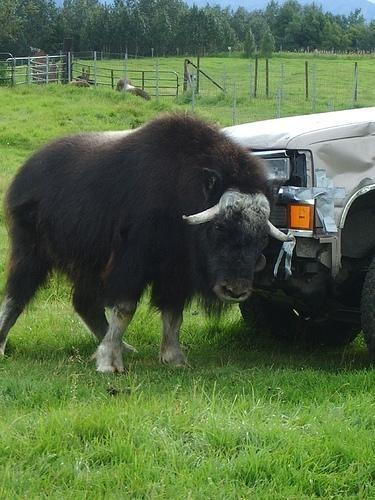truck: (220, 107, 375, 350)
